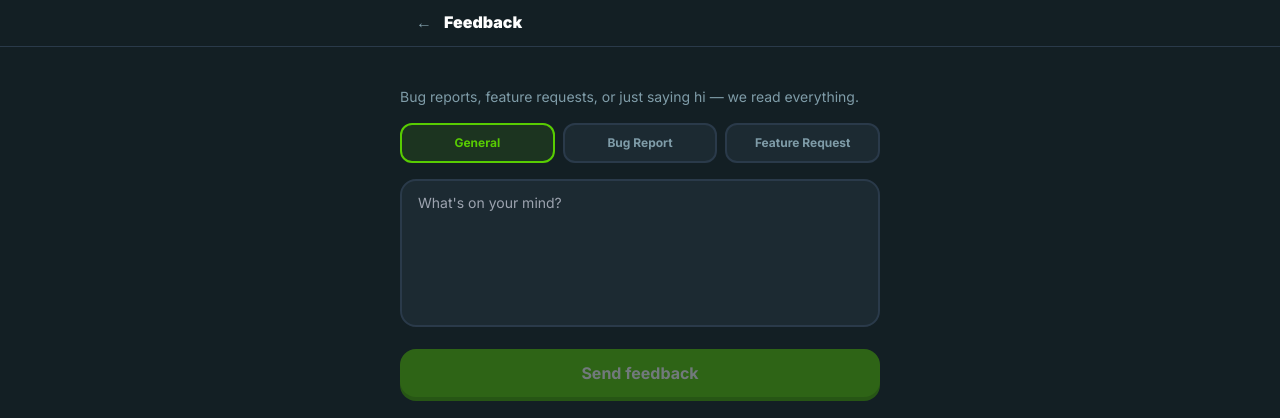
Test: Feedback Page › submit button enabled when text >= 10 chars
Check: the button "Send feedback" is shown, box [400,349,880,397]
Type "This is a valid feedback message" into the text box with placeholder "What's on your mind?" at [640, 253], box [400,179,880,327]
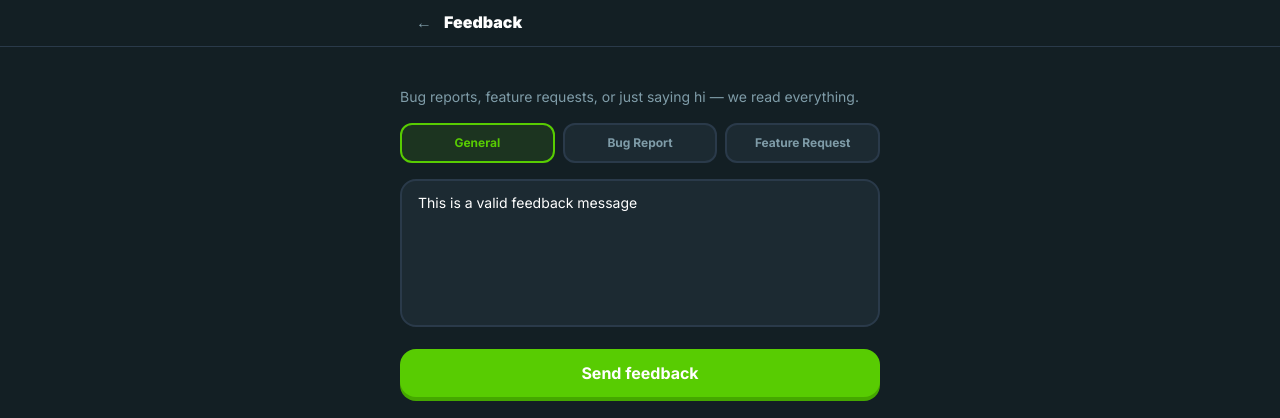
Check: the button "Send feedback" is enabled, box [400,349,880,397]
